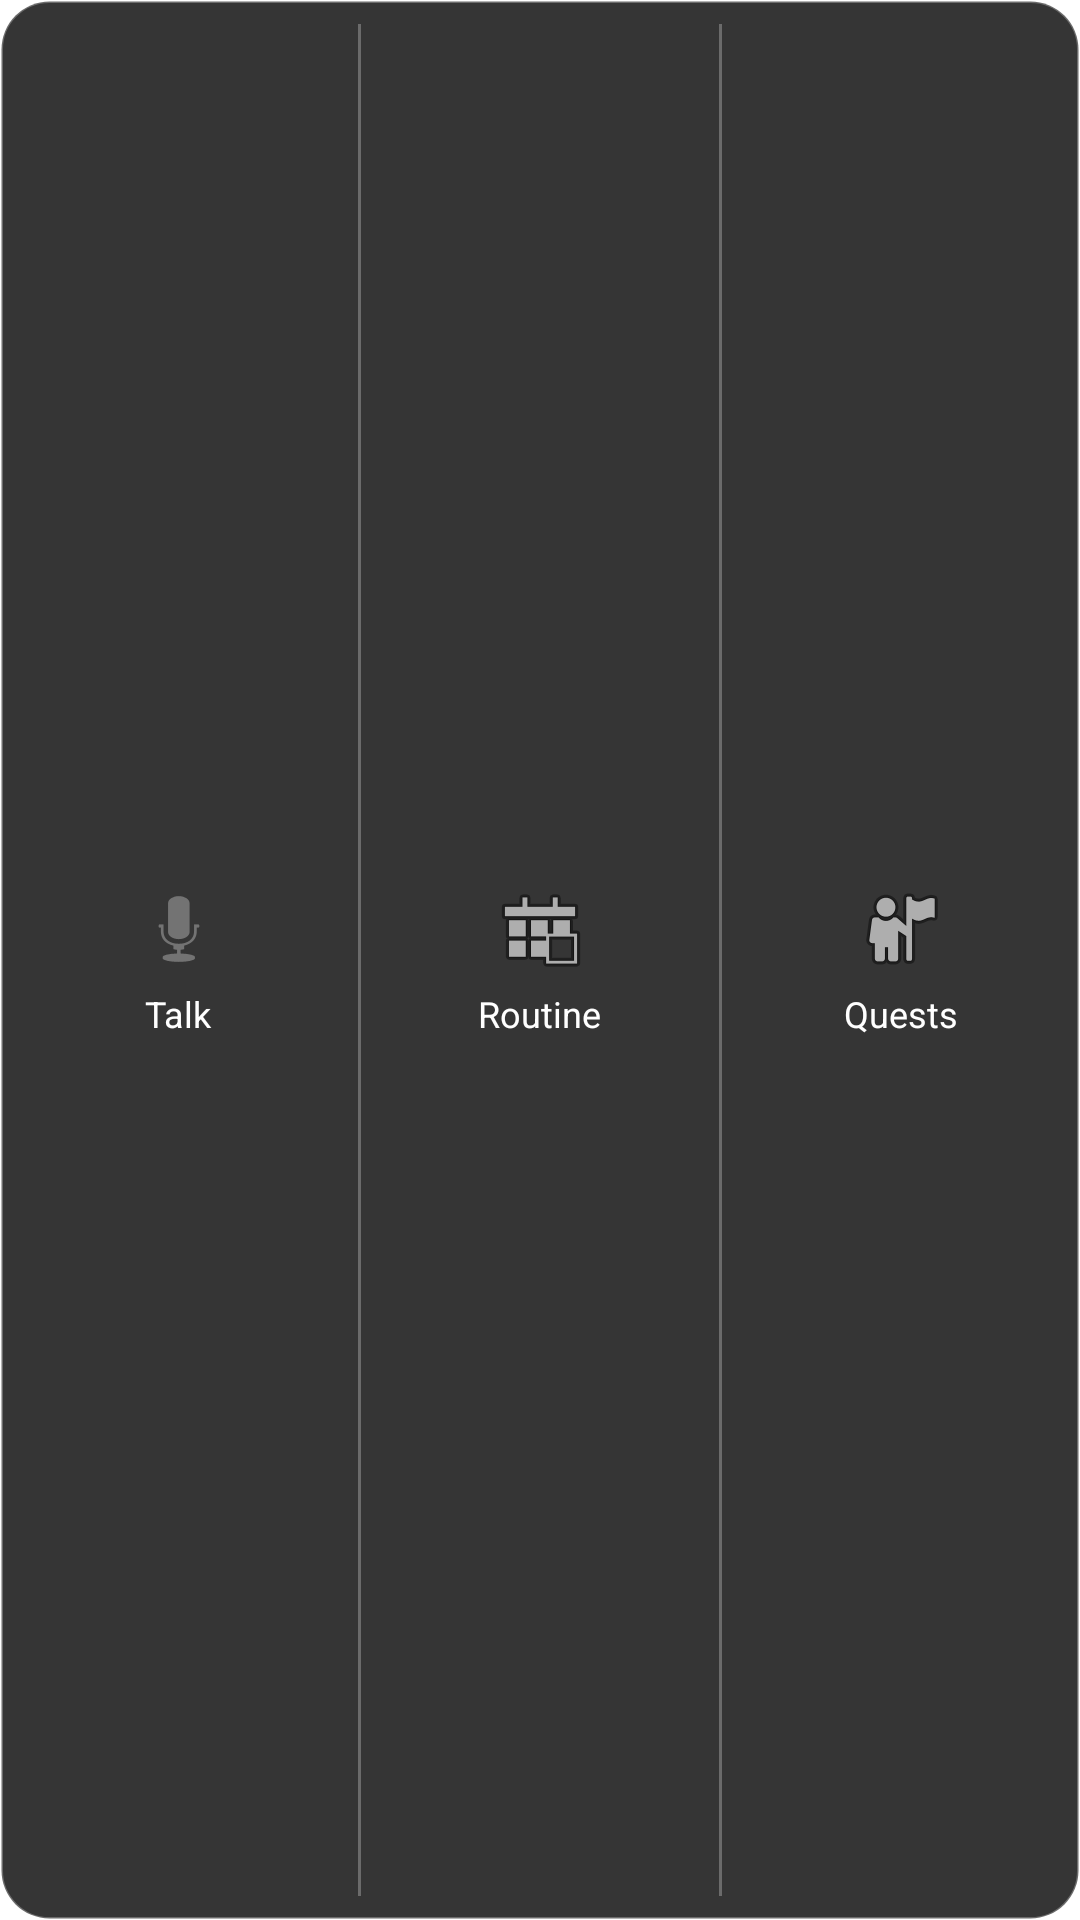

Icon bounding boxes for this 1080w x 1920h phone screenshot, format box=[x1, y1, x2, y2]:
today: box=[504, 896, 578, 965]
